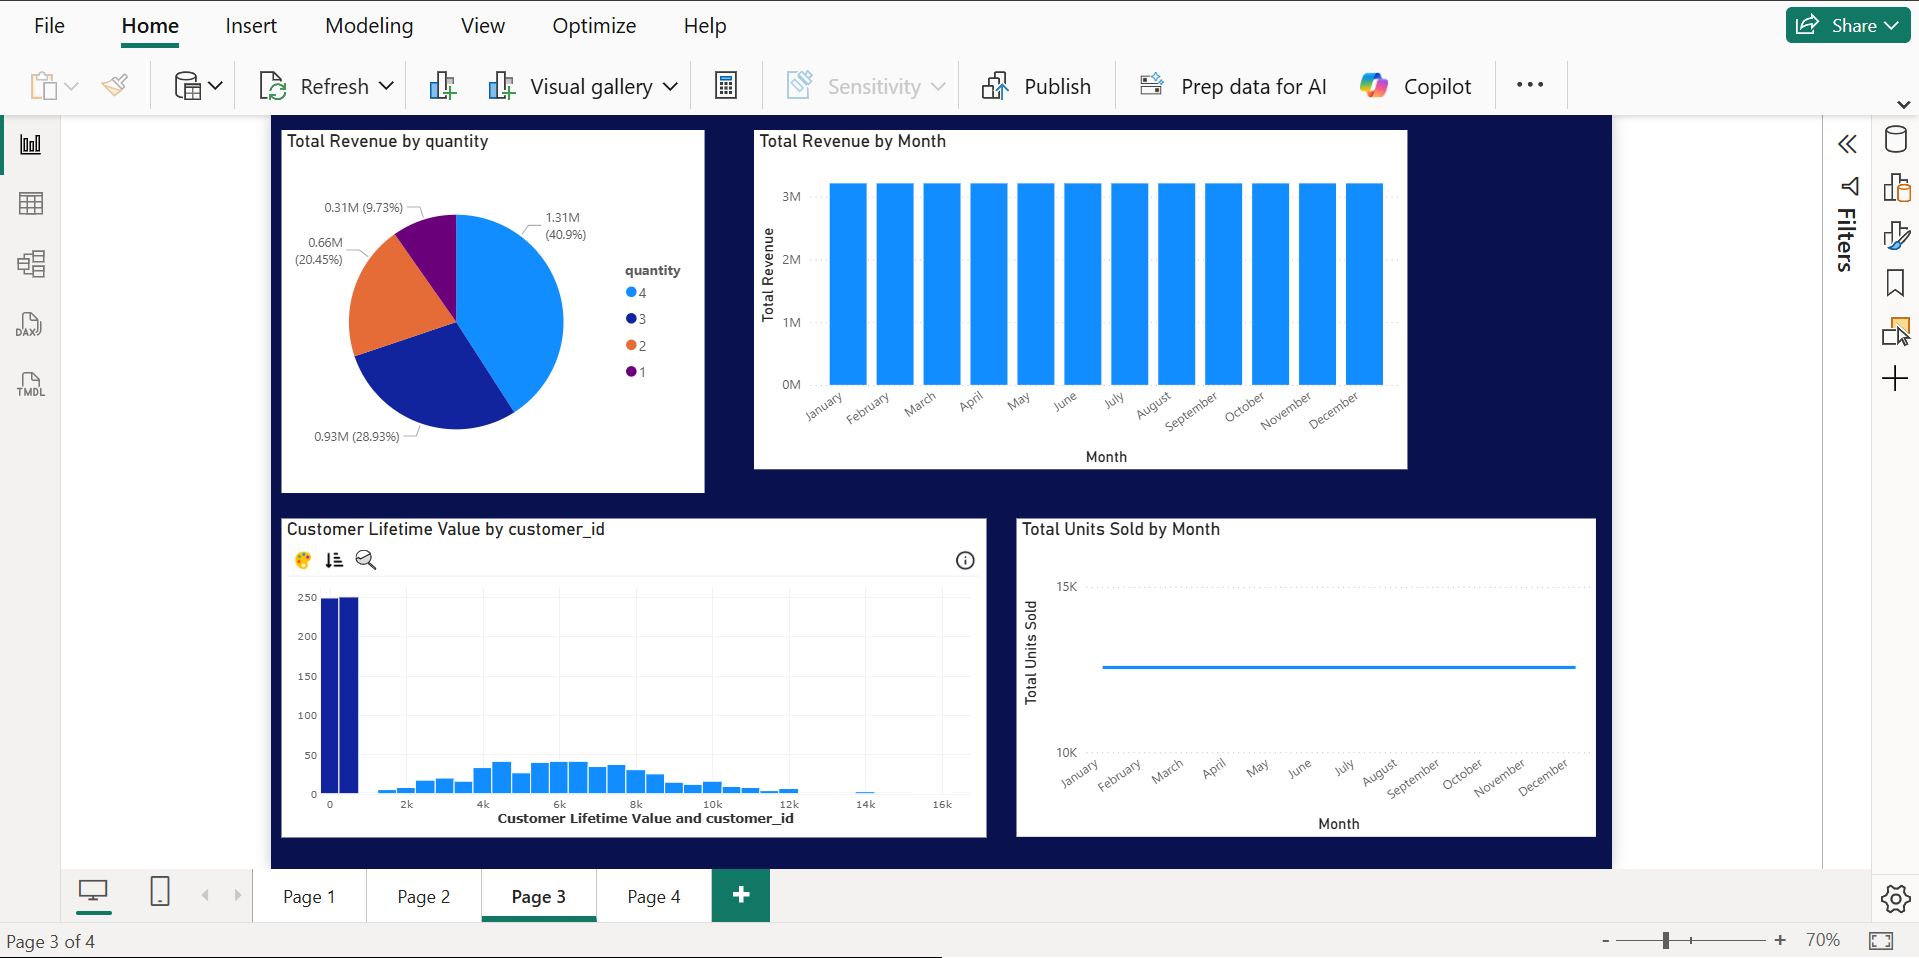

What the dashboard file says about the page in this screenshot:
{"tool":"powerbi","page":{"name":"Page 3","canvas":[1280,720],"ordinal":2},"visuals":[{"type":"pieChart","fields":{"Y":["Measures (2).Total Revenue"],"Category":["warehouse fact_sales.quantity"]},"box":[9.5,14.3,404,346.8],"z":0},{"type":"clusteredColumnChart","fields":{"Y":["Measures (2).Total Revenue"],"Category":["warehouse dim_date.order_date.Variation.Date Hierarchy.Month"]},"box":[461.8,14.2,623.8,324.1],"z":1000},{"type":"histogramF963F133BA02A0B35D286F09F80E9C78","fields":{"col_2":["Measures (2).Customer Lifetime Value"],"col_4":["warehouse fact_sales.customer_id"]},"box":[9.5,384.9,672.8,303.8],"z":2000},{"type":"lineChart","fields":{"Category":["warehouse dim_date.order_date.Variation.Date Hierarchy.Month"],"Y":["Measures (2).Total Units Sold"]},"box":[712.6,384.9,553.5,303.8],"z":3000}]}

Visuals, with their boxes on the page's 1280x720 design canvas (x1, y1, x2, y2). These are canvas units, not pixel positions in the 1919x958 screenshot, which may show the page scaled, cropped or inside an application window:
pieChart - Measures (2).Total Revenue x warehouse fact_sales.quantity: bbox=(10, 14, 414, 361)
clusteredColumnChart - Measures (2).Total Revenue x warehouse dim_date.order_date.Variation.Date Hierarchy.Month: bbox=(462, 14, 1086, 338)
histogramF963F133BA02A0B35D286F09F80E9C78 - Measures (2).Customer Lifetime Value x warehouse fact_sales.customer_id: bbox=(10, 385, 682, 689)
lineChart - warehouse dim_date.order_date.Variation.Date Hierarchy.Month x Measures (2).Total Units Sold: bbox=(713, 385, 1266, 689)
